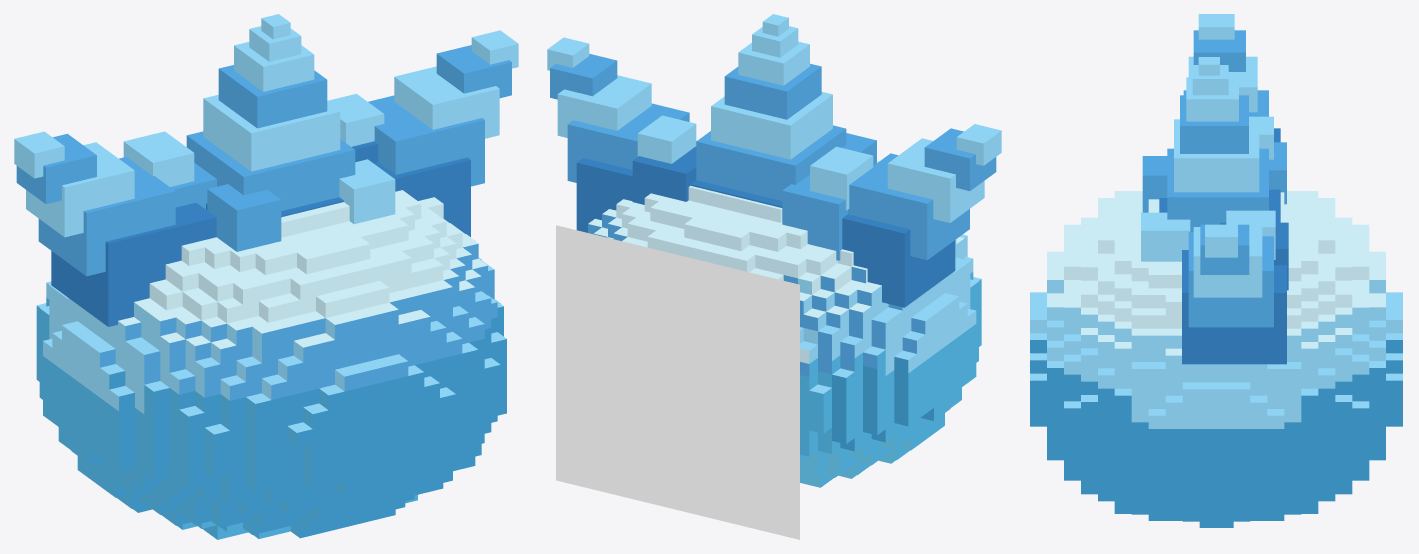
Rendered from slime_cryo_large.glb.
The picture shows the model from 3 angles, left to right: view 1: azimuth 30°, elevation 25°; view 2: azimuth 150°, elevation 25°; view 3: azimuth 270°, elevation 25°; orthographic projection. The views are drawn at different scales.
Visible parts, largest first — view 1: Shell, CryoIceShell; view 2: Face, CryoIceShell, Shell; view 3: Shell, CryoIceShell.
Part boxes in pixels (x1,y1,x2,y2): Shell: (36, 190, 506, 539); CryoIceShell: (14, 14, 518, 326); Face: (556, 225, 799, 539); CryoIceShell: (547, 14, 1001, 307); Shell: (588, 160, 981, 487); Shell: (1030, 191, 1402, 527); CryoIceShell: (1141, 14, 1288, 364).
Size of the model in its own units: 2.45 by 2.26 by 1.83.
